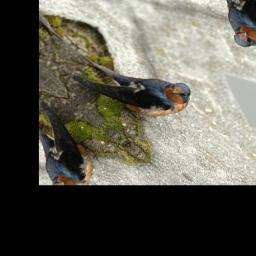Swallow: (54, 20, 201, 138)
